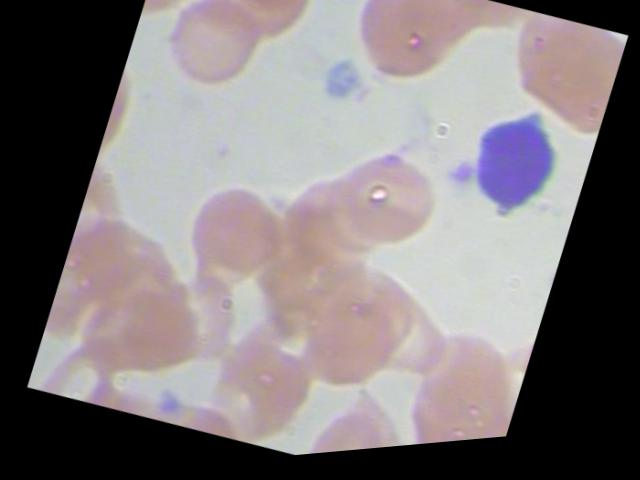Platelets: (306, 48, 371, 124), (146, 385, 190, 431), (439, 159, 480, 204)
Red Blood Cells: (311, 138, 451, 284), (180, 320, 320, 465), (69, 260, 209, 405), (160, 162, 299, 307), (274, 280, 413, 425), (390, 310, 530, 452), (387, 311, 527, 452), (48, 194, 175, 336), (144, 0, 284, 116), (495, 11, 627, 134), (332, 0, 471, 112), (24, 315, 138, 418), (194, 0, 332, 72), (287, 387, 413, 460), (387, 393, 510, 453), (146, 389, 257, 455), (191, 0, 311, 17)
White Blood Cells: (451, 94, 573, 246)
